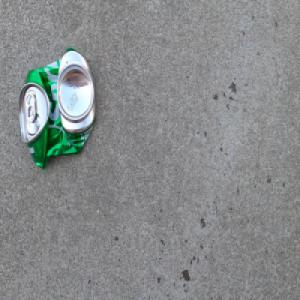SodaCan: (18, 45, 97, 171)
